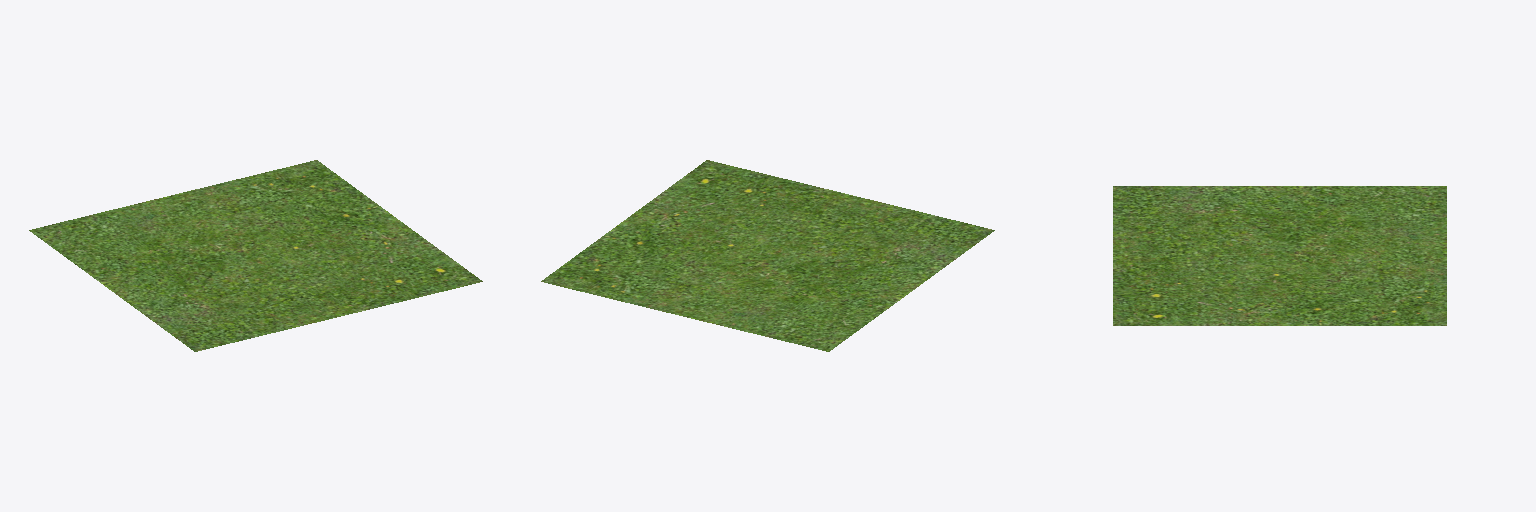
3 renders of one model, left to right at view 1: azimuth 30°, elevation 25°; view 2: azimuth 150°, elevation 25°; view 3: azimuth 270°, elevation 25°, orthographic.
Visible parts, largest first — view 1: Plane; view 2: Plane; view 3: Plane.
Part boxes in pixels (left/top/right/bottom): Plane: left=29, top=160, right=482, bottom=351; Plane: left=541, top=160, right=994, bottom=351; Plane: left=1113, top=186, right=1446, bottom=325.
Bounding box in the file's own units: 20 × 0 × 20.
1 materials, 1 textured.